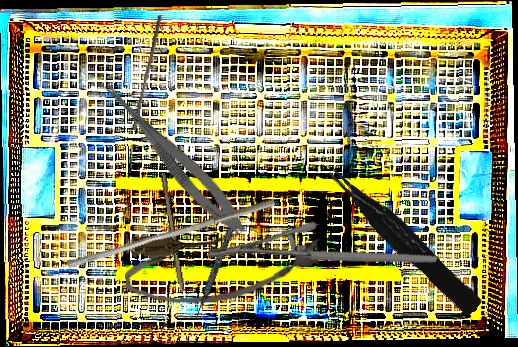Cannula: (123, 225, 330, 309)
Micro Scissor: (89, 73, 254, 242)
Needle Holder: (206, 179, 438, 335)
Pusher: (66, 190, 276, 276), (131, 13, 163, 132)
Scalpel Handle: (157, 172, 187, 293)
Spatula Surgical: (193, 190, 248, 322)
Tissue Forceps: (324, 155, 484, 323)
